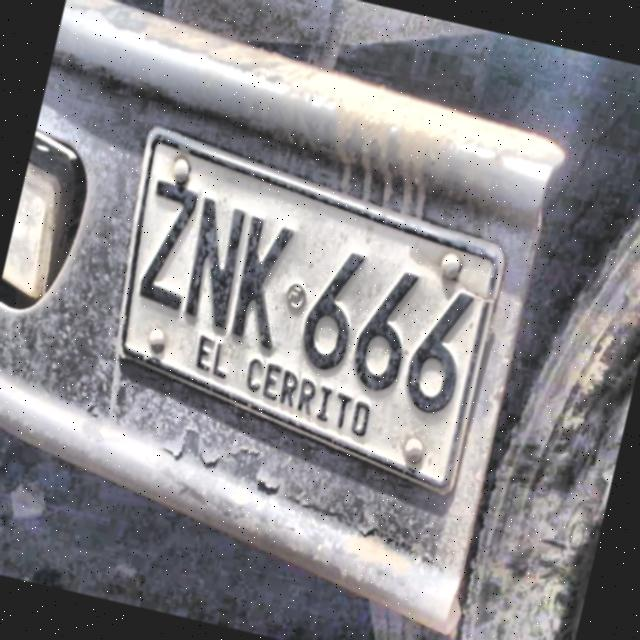6: (395, 276, 480, 424), (342, 255, 426, 403), (288, 241, 372, 383)
K: (225, 209, 306, 355)
N: (180, 190, 250, 335)
Z: (134, 171, 201, 316)
